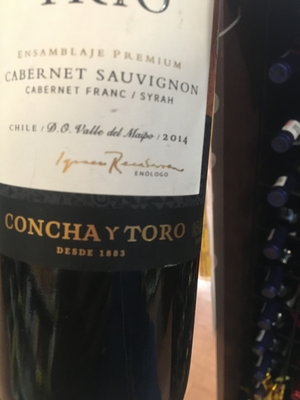trio cabernet sauvignon: (1, 1, 222, 331)
